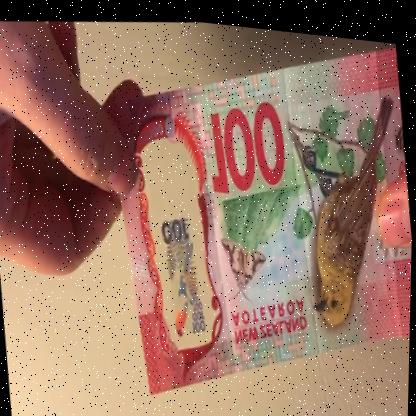100B: (153, 153, 213, 341)
